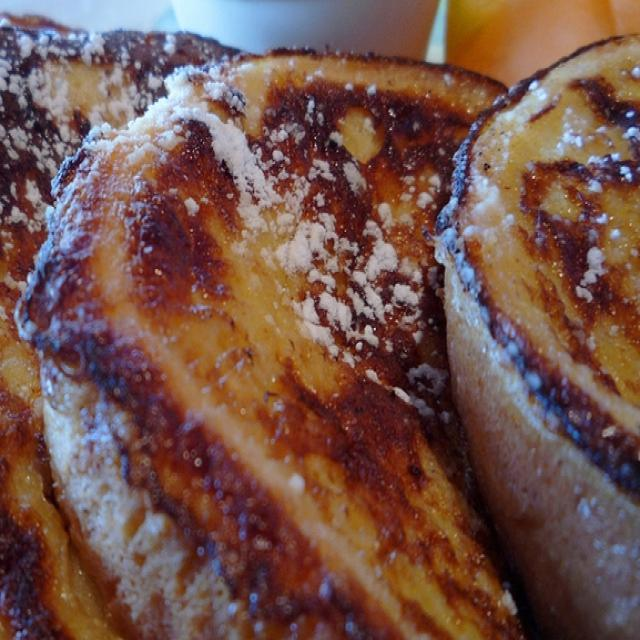面包点心: (8, 13, 616, 621)
